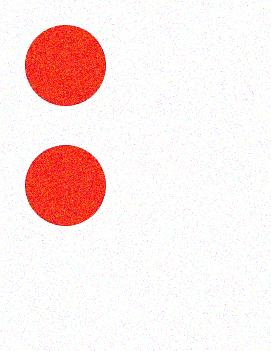B: (19, 19, 256, 337)
